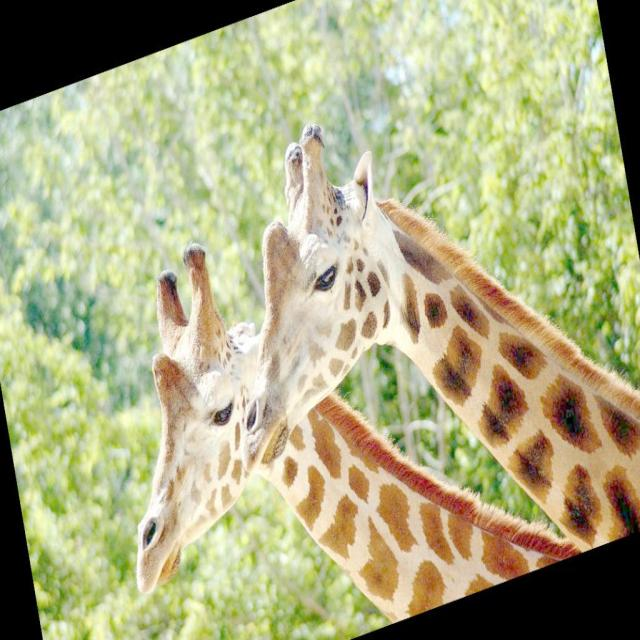Giraffe: (239, 106, 640, 549), (128, 234, 578, 620)
